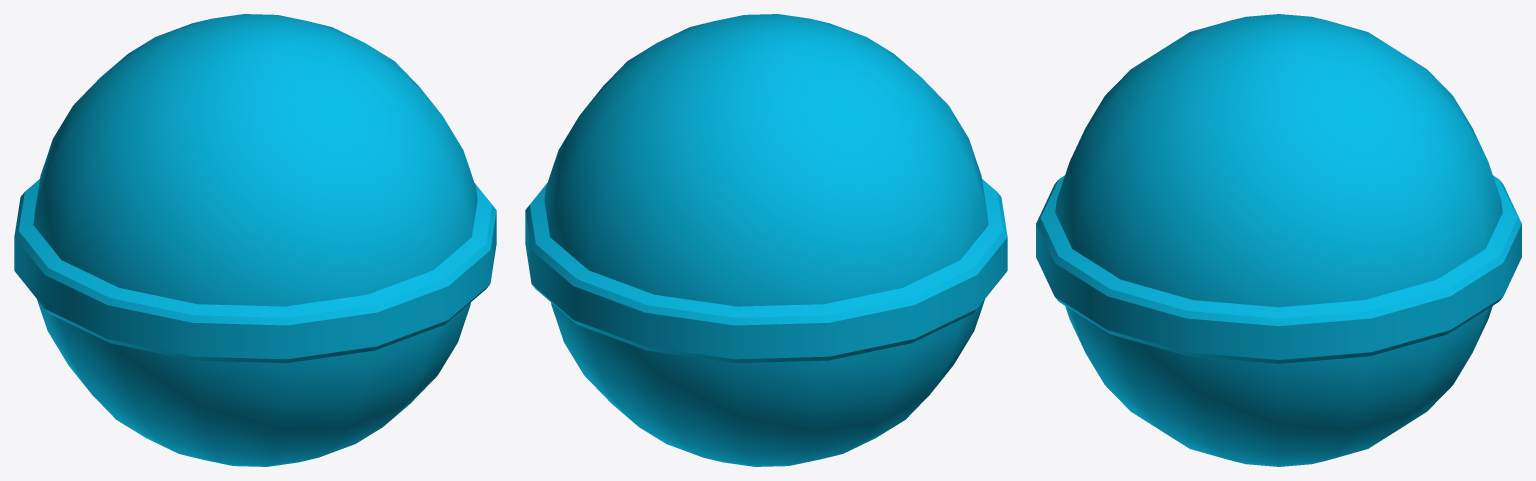
The model's file is loli.fbx.
3 views of the same model, side by side, from view 1: azimuth 30°, elevation 25°; view 2: azimuth 150°, elevation 25°; view 3: azimuth 270°, elevation 25° (orthographic).
Parts seen in each view (by area): view 1: pTorus2; view 2: pTorus2; view 3: pTorus2.
Part boxes in pixels (bbox=[...]): pTorus2: bbox=[14, 14, 496, 466]; pTorus2: bbox=[525, 14, 1007, 466]; pTorus2: bbox=[1036, 14, 1521, 466].
Bounding box in the file's own units: 1.43 × 1.33 × 1.43.
